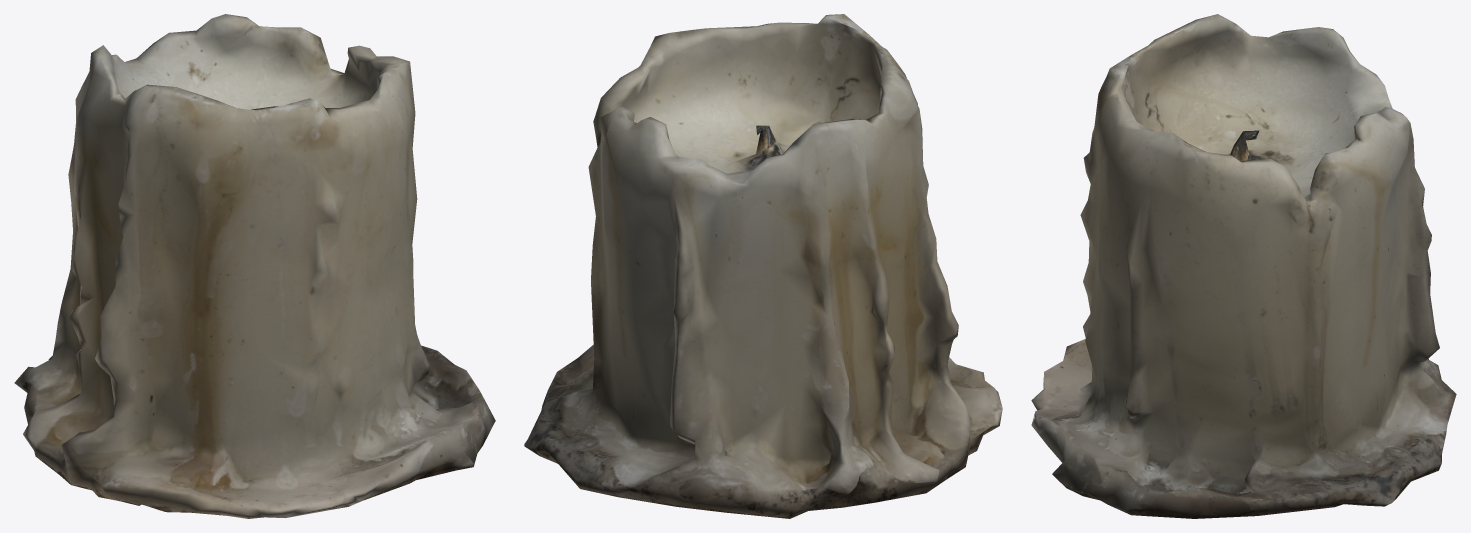
File: SM_Candle_01_02.fbx
3 views of the same model, side by side, from view 1: azimuth 30°, elevation 25°; view 2: azimuth 150°, elevation 25°; view 3: azimuth 270°, elevation 25° (orthographic). The views are drawn at different scales.
Visible parts, largest first — view 1: sm_Candle_01_02_LOD0; view 2: sm_Candle_01_02_LOD0; view 3: sm_Candle_01_02_LOD0.
Boxes of the visible parts, <box> form: sm_Candle_01_02_LOD0: <box>14,14,495,518</box>; sm_Candle_01_02_LOD0: <box>524,14,1002,518</box>; sm_Candle_01_02_LOD0: <box>1031,14,1456,518</box>.
Size of the model in its own units: 13.66 by 14.08 by 13.
